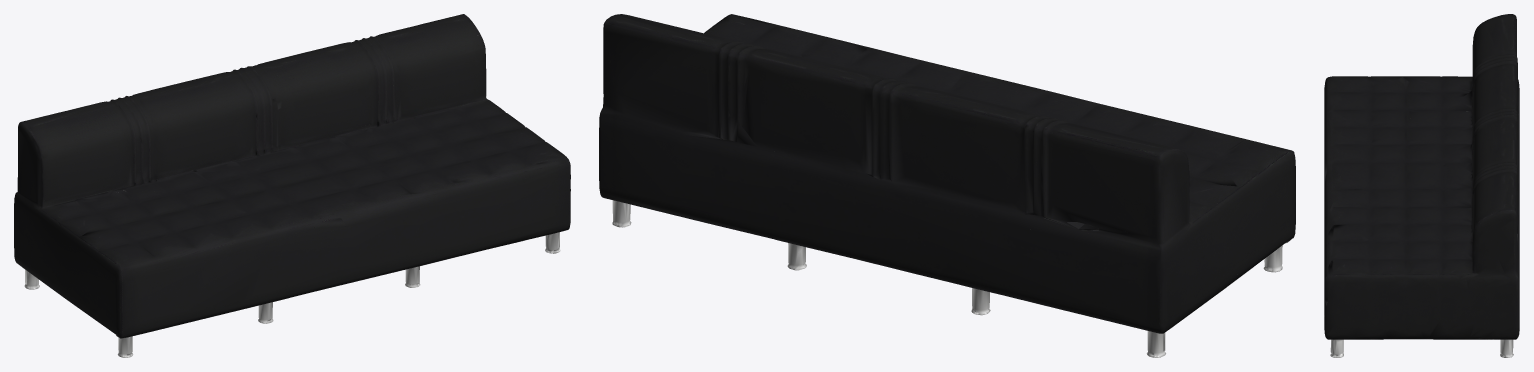
File: chair1 1.glb
3 views of the same model, side by side, from view 1: azimuth 30°, elevation 25°; view 2: azimuth 150°, elevation 25°; view 3: azimuth 270°, elevation 25° (orthographic). The views are drawn at different scales.
Size of the model in its own units: 1.91 by 0.6637 by 0.7879.
Materials: 1 (1 with a texture image).
